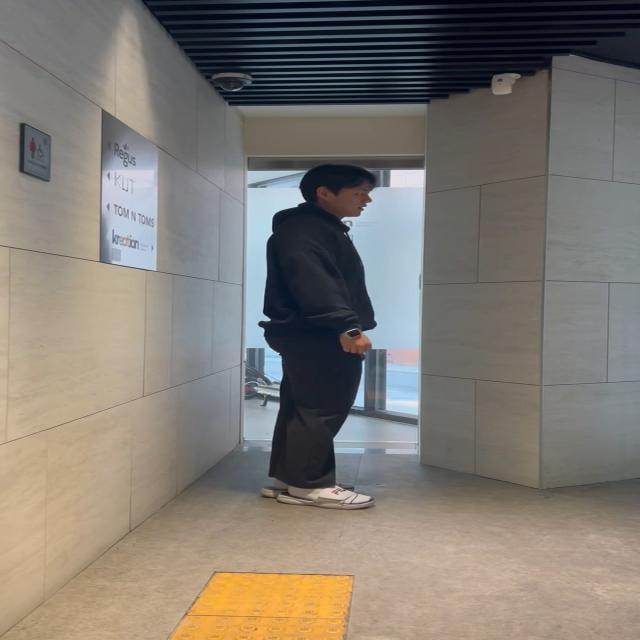leg: (254, 319, 388, 508)
